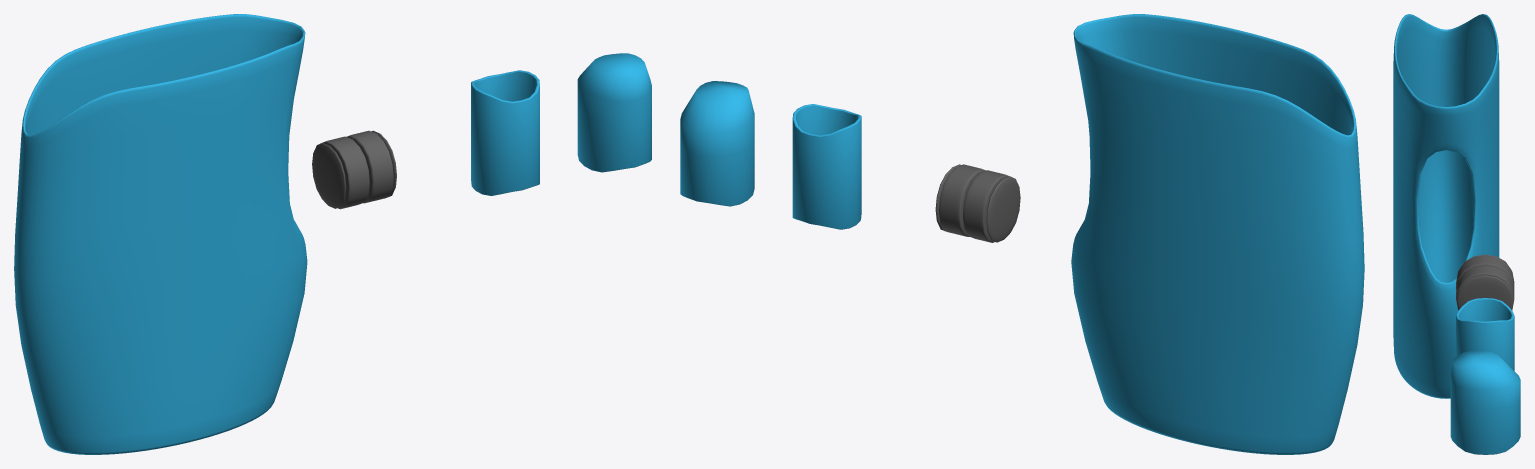
The model's file is RobotHand 1.fbx.
The picture shows the model from 3 angles, left to right: view 1: azimuth 30°, elevation 25°; view 2: azimuth 150°, elevation 25°; view 3: azimuth 270°, elevation 25°; orthographic projection. The views are drawn at different scales.
Parts seen in each view (by area): view 1: HandBody, Finger_t, Finger_p, Motor; view 2: HandBody, Finger_t, Finger_p, Motor; view 3: HandBody, Finger_t, Finger_p, Motor.
Part boxes in pixels (x1=…): HandBody: x1=14, y1=14, x2=307, y2=454; Finger_t: x1=577, y1=53, x2=651, y2=172; Finger_p: x1=471, y1=70, x2=539, y2=195; Motor: x1=312, y1=130, x2=396, y2=209; HandBody: x1=1071, y1=14, x2=1364, y2=454; Finger_t: x1=680, y1=81, x2=754, y2=206; Finger_p: x1=792, y1=104, x2=861, y2=229; Motor: x1=935, y1=164, x2=1020, y2=242; HandBody: x1=1393, y1=14, x2=1499, y2=398; Finger_t: x1=1450, y1=350, x2=1520, y2=454; Finger_p: x1=1456, y1=298, x2=1514, y2=370; Motor: x1=1456, y1=254, x2=1514, y2=310.
Size of the model in its own units: 461 by 247 by 92.49.
